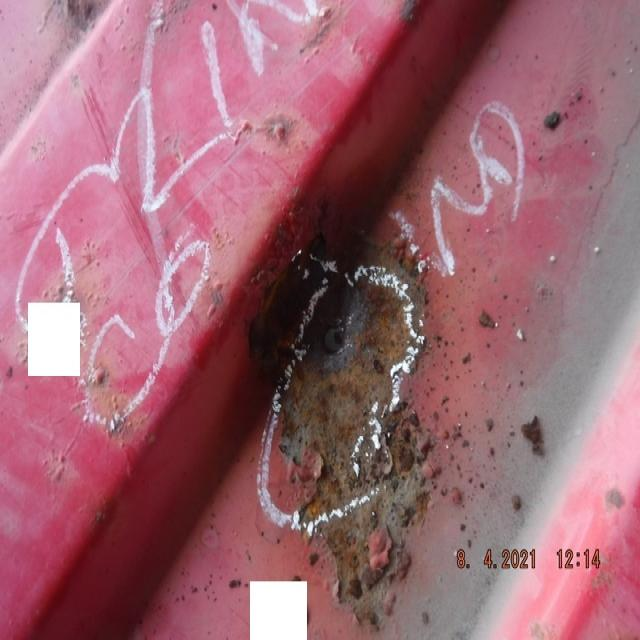rust: (251, 224, 437, 616)
